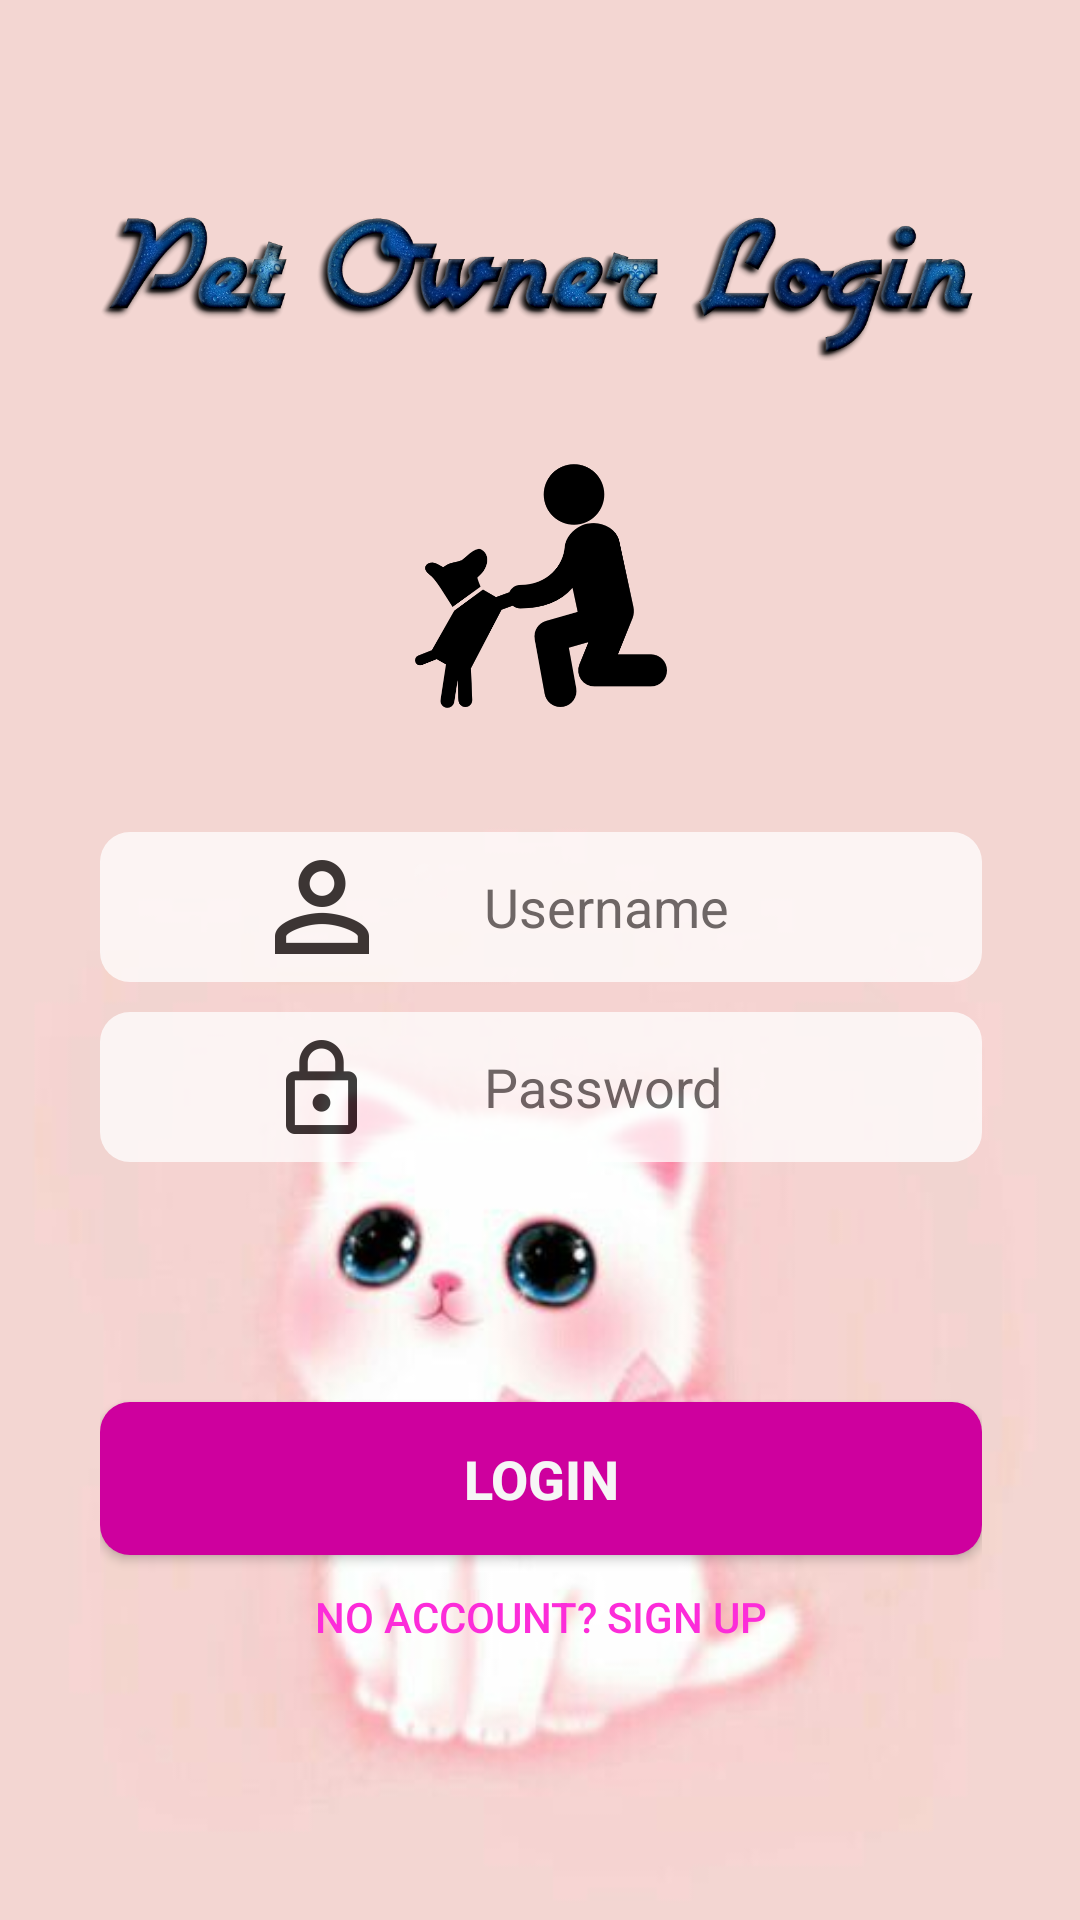

Icon bounding boxes for this 1080 × 1920 phone screenshot, format BBox(x1, y1, x2, y2):
owner: BBox(415, 464, 667, 708)
